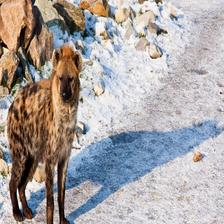hyena: (2, 26, 100, 224)
